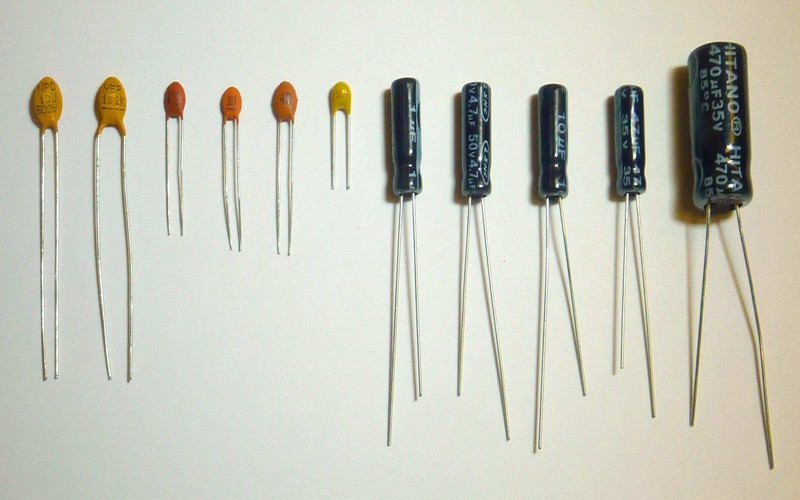Capacitor: (9, 36, 800, 471)
